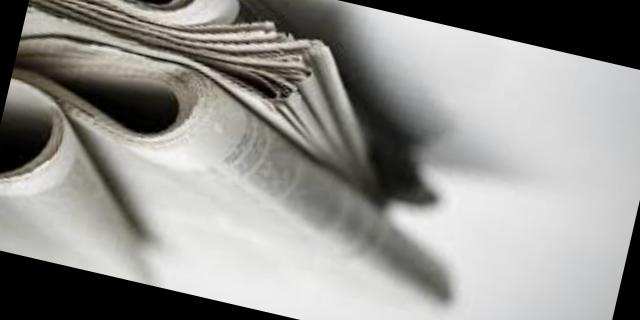cardboard paper: (0, 72, 148, 285)
